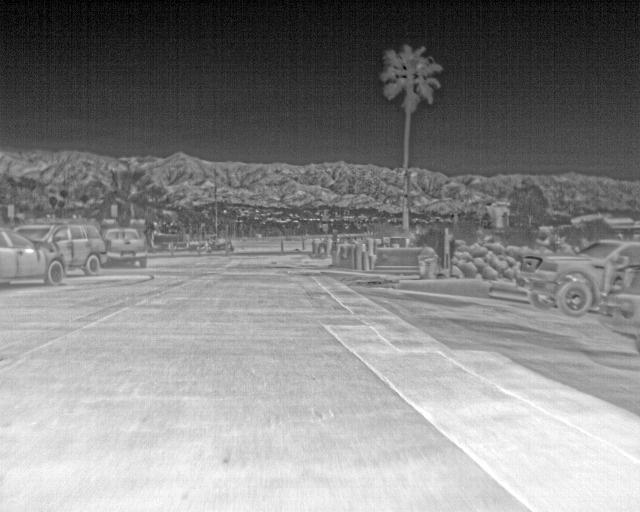bicycle: (512, 238, 639, 315), (10, 223, 107, 273), (0, 226, 68, 285), (594, 276, 639, 352), (97, 225, 146, 268)
